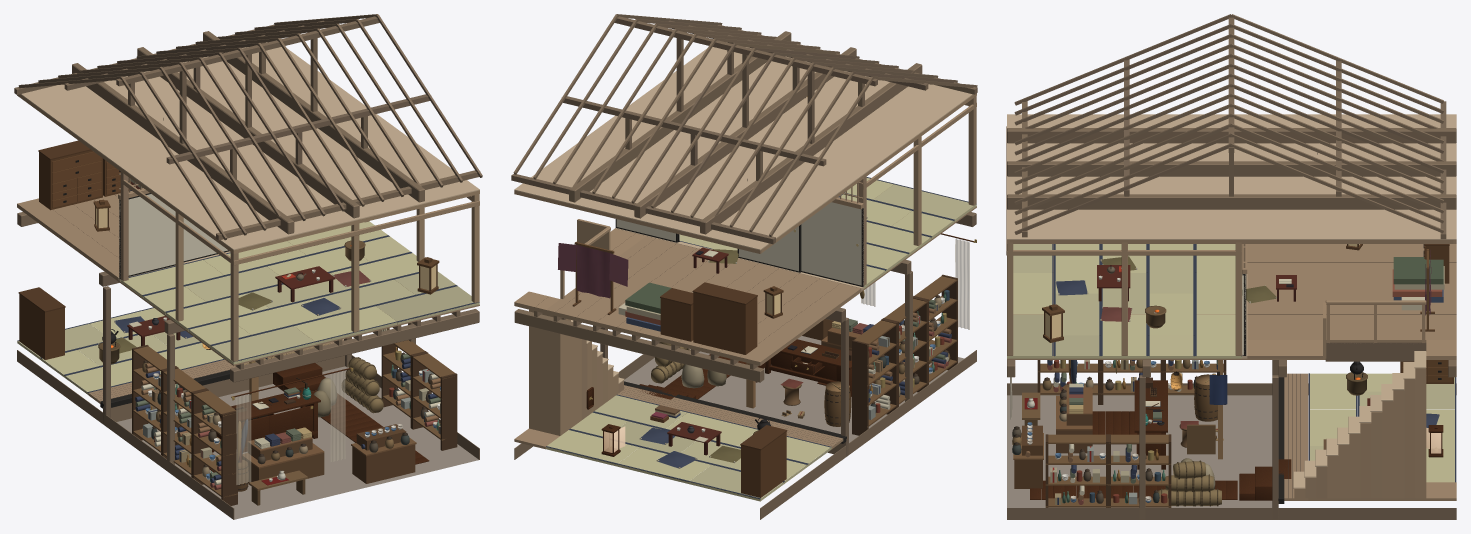
File: interior.glb
3 renders of one model, left to right at view 1: azimuth 30°, elevation 25°; view 2: azimuth 150°, elevation 25°; view 3: azimuth 270°, elevation 25°, orthographic. The views are drawn at different scales.
Parts seen in each view (by area): view 1: BldgA_Interior_Structure, Hybrid_Sonnet_shop, Hybrid_Sonnet_upper, Hybrid_Sonnet_raised, Separate folded display curtain, Separate folded display curtain.001, Counter top,slightly offset, Inferred platform approach step2; view 2: BldgA_Interior_Structure, Hybrid_Sonnet_shop, Hybrid_Sonnet_upper, Hybrid_Sonnet_raised, Separate folded display curtain, Counter top,slightly offset; view 3: BldgA_Interior_Structure, Hybrid_Sonnet_shop, Hybrid_Sonnet_upper, Hybrid_Sonnet_raised, Counter top,slightly offset, Inferred platform approach step2.
Boxes of the visible parts, <box> form: BldgA_Interior_Structure: <box>14,14,482,519</box>; Hybrid_Sonnet_shop: <box>132,328,457,505</box>; Hybrid_Sonnet_upper: <box>38,118,439,315</box>; Hybrid_Sonnet_raised: <box>18,287,192,364</box>; Separate folded display curtain: <box>236,394,251,484</box>; Separate folded display curtain.001: <box>330,371,345,461</box>; Counter top,slightly offset: <box>216,388,320,421</box>; Inferred platform approach step2: <box>274,363,322,390</box>; BldgA_Interior_Structure: <box>511,14,977,519</box>; Hybrid_Sonnet_shop: <box>651,274,957,435</box>; Hybrid_Sonnet_upper: <box>558,96,867,354</box>; Hybrid_Sonnet_raised: <box>639,405,787,497</box>; Separate folded display curtain: <box>955,238,969,329</box>; Counter top,slightly offset: <box>779,339,851,369</box>; BldgA_Interior_Structure: <box>1006,14,1456,519</box>; Hybrid_Sonnet_shop: <box>1012,360,1227,507</box>; Hybrid_Sonnet_upper: <box>1042,153,1449,342</box>; Hybrid_Sonnet_raised: <box>1323,360,1453,449</box>; Counter top,slightly offset: <box>1134,380,1167,432</box>; Inferred platform approach step2: <box>1255,466,1272,500</box>.
Bounding box in the file's own units: 6 × 8.01 × 8.6.
24 materials, 3 textured.
